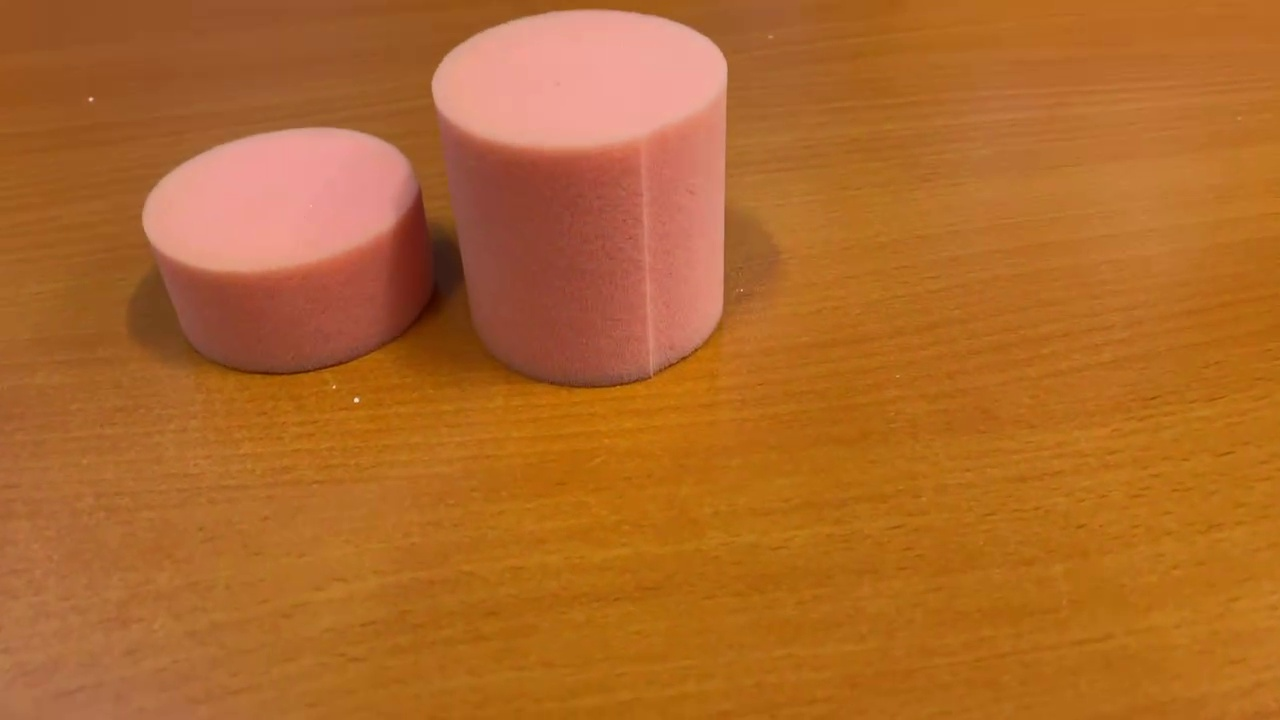Clyinder_short: (136, 118, 443, 383)
Cylinder: (428, 5, 732, 393)
